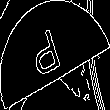P_SE: (36, 24, 74, 86)
